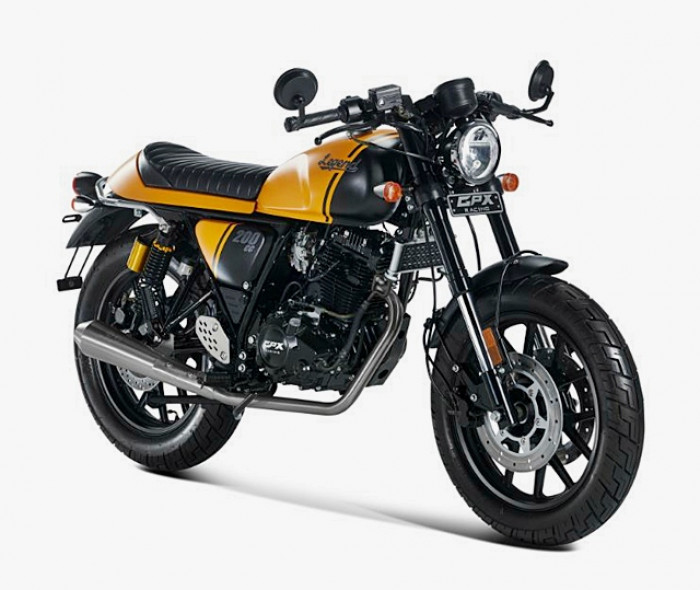motorcycle: (62, 78, 633, 545)
